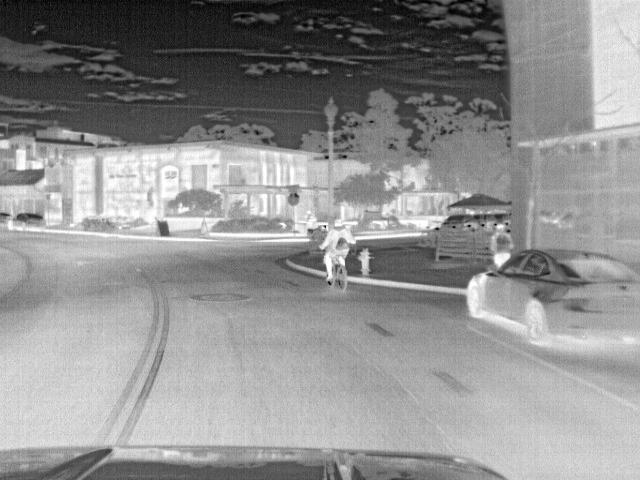car: (463, 248, 638, 343), (6, 210, 48, 231), (436, 213, 481, 230)
person: (317, 218, 354, 285), (492, 222, 515, 268)
